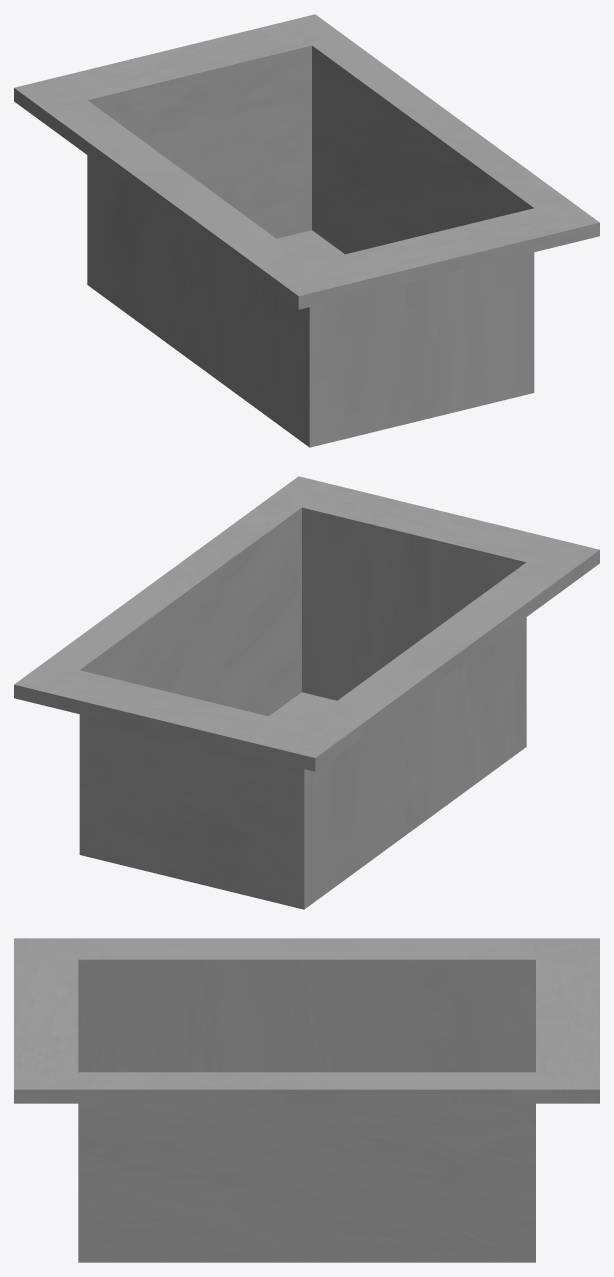
Rendered from final sink.fbx.
3 renders of one model, top to bottom at view 1: azimuth 30°, elevation 25°; view 2: azimuth 150°, elevation 25°; view 3: azimuth 270°, elevation 25°, orthographic. The views are drawn at different scales.
Visible parts, largest first — view 1: Cube.018; view 2: Cube.018; view 3: Cube.018.
Part boxes in pixels (x1,y1,x2,y2): Cube.018: (14, 14, 599, 447); Cube.018: (14, 476, 599, 909); Cube.018: (14, 938, 599, 1262).
Bounding box in the file's own units: 47.7 × 27.94 × 78.06.
